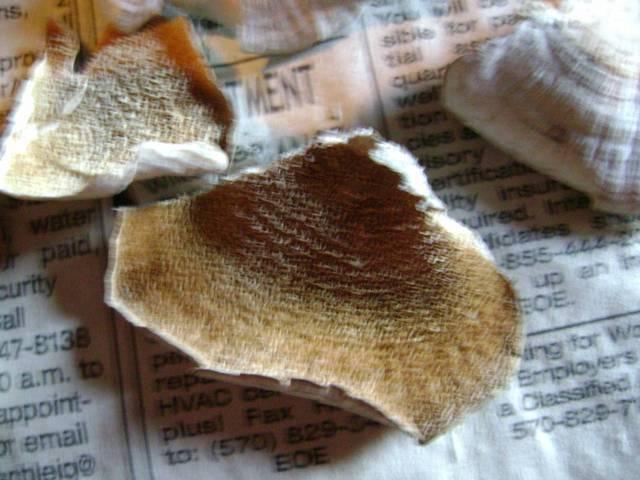poisonous_mushroom: (101, 124, 525, 445)
